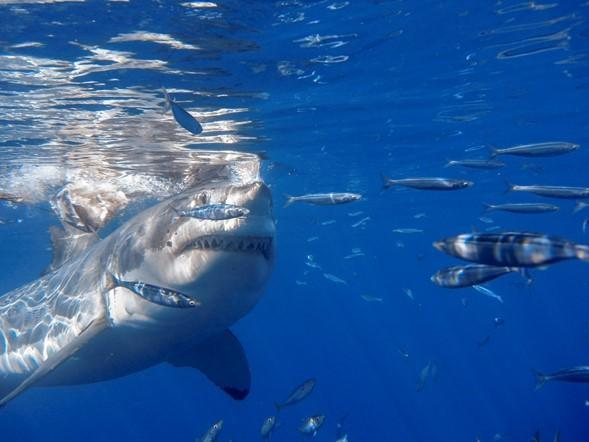shark: (1, 170, 299, 416)
